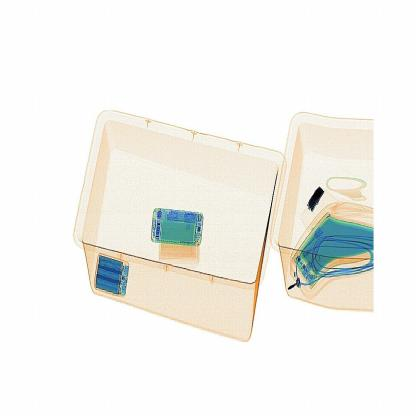scissors: (303, 182, 328, 214)
